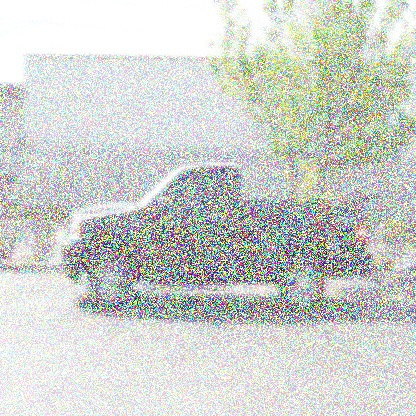Vehicle: (63, 164, 374, 314)
